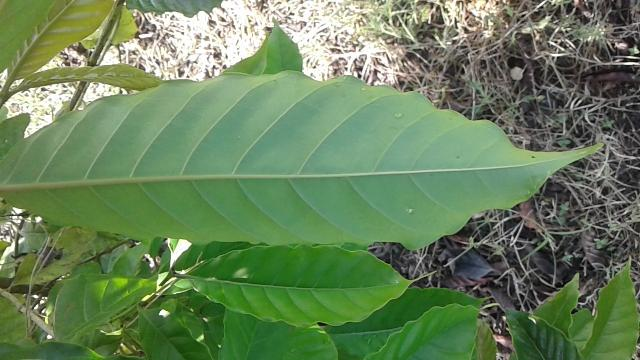healthy: (0, 68, 602, 250)
